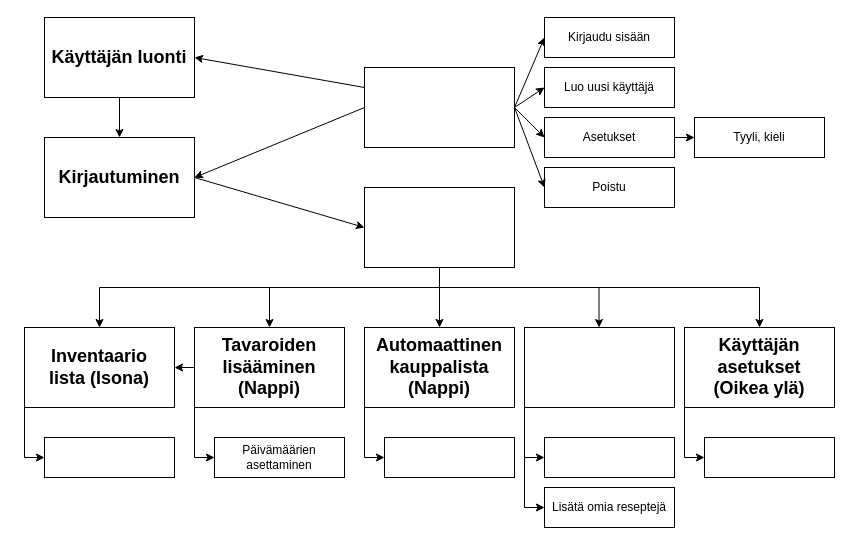
Image size: 852x545. Some labels were removed from this diagram. The shapes that lost their labels are listed below. From the top down, each one's centre as x and y in pixels, then its label:
At (439,107): "Alkunäkymä".
At (439,227): "Päänäkymä".
At (599,367): "Reseptit (Nappi)".
At (109,457): "Lisäämään/poistamaan tavaroita joita pitää olla".
At (449,457): "Lisäämään/poistamaan tavaroita vain tälle listalle".
At (609,457): "Poistaa reseptin asiat inventaariosta".
At (769,457): "Käyttäjien/profiilien valinta ja poistaminen".
